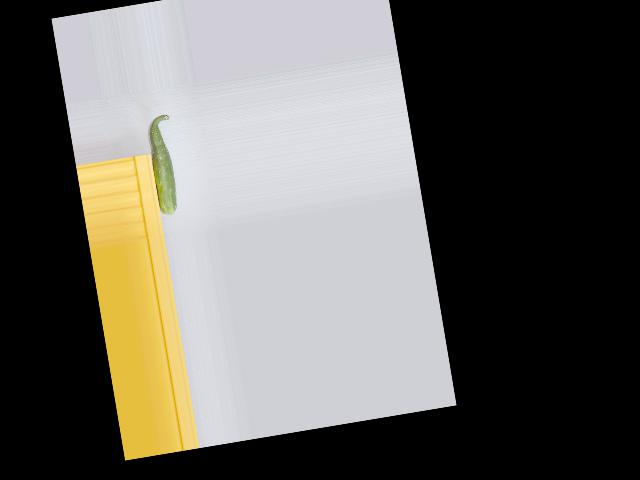cucumber: (144, 113, 185, 215)
